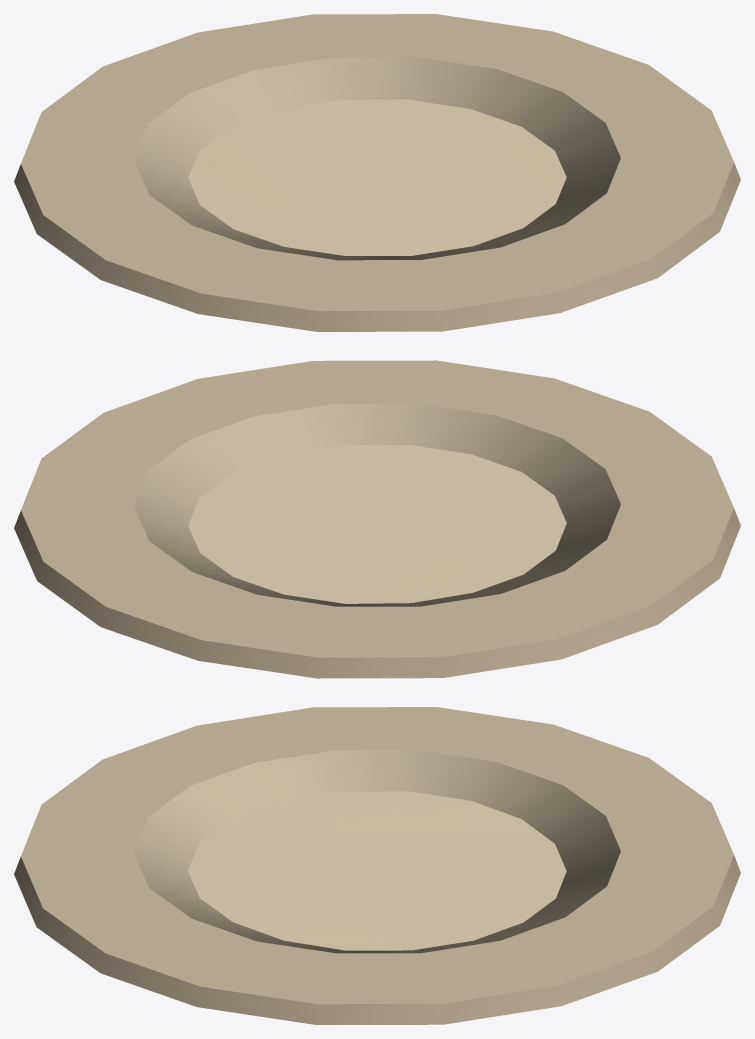
File: SM_TA_Tile_Start.fbx
The picture shows the model from 3 angles, top to bottom: view 1: azimuth 30°, elevation 25°; view 2: azimuth 150°, elevation 25°; view 3: azimuth 270°, elevation 25°; orthographic projection.
Visible parts, largest first — view 1: Tile_Start; view 2: Tile_Start; view 3: Tile_Start.
Boxes of the visible parts, box(x1,y1,x2,y2) form: Tile_Start: box(14, 14, 740, 331); Tile_Start: box(14, 360, 740, 678); Tile_Start: box(14, 707, 740, 1024).
Size of the model in its own units: 0.8452 by 0.029 by 0.8573.
